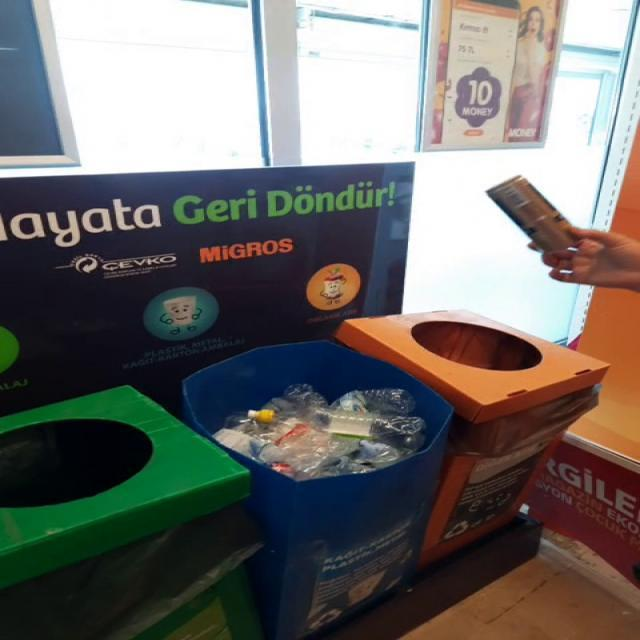Metal: (487, 175, 577, 253)
